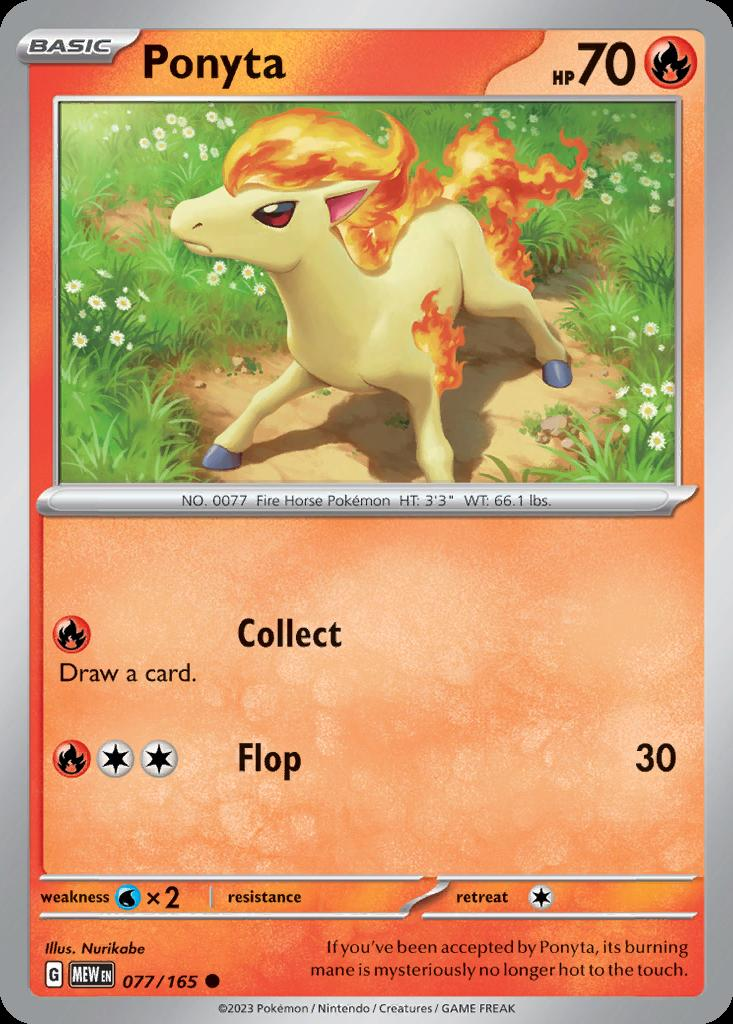card: (4, 5, 732, 1024)
hp: (540, 26, 703, 99)
name: (130, 27, 293, 93)
set num: (123, 957, 230, 991)
set symbol: (44, 960, 121, 990)
